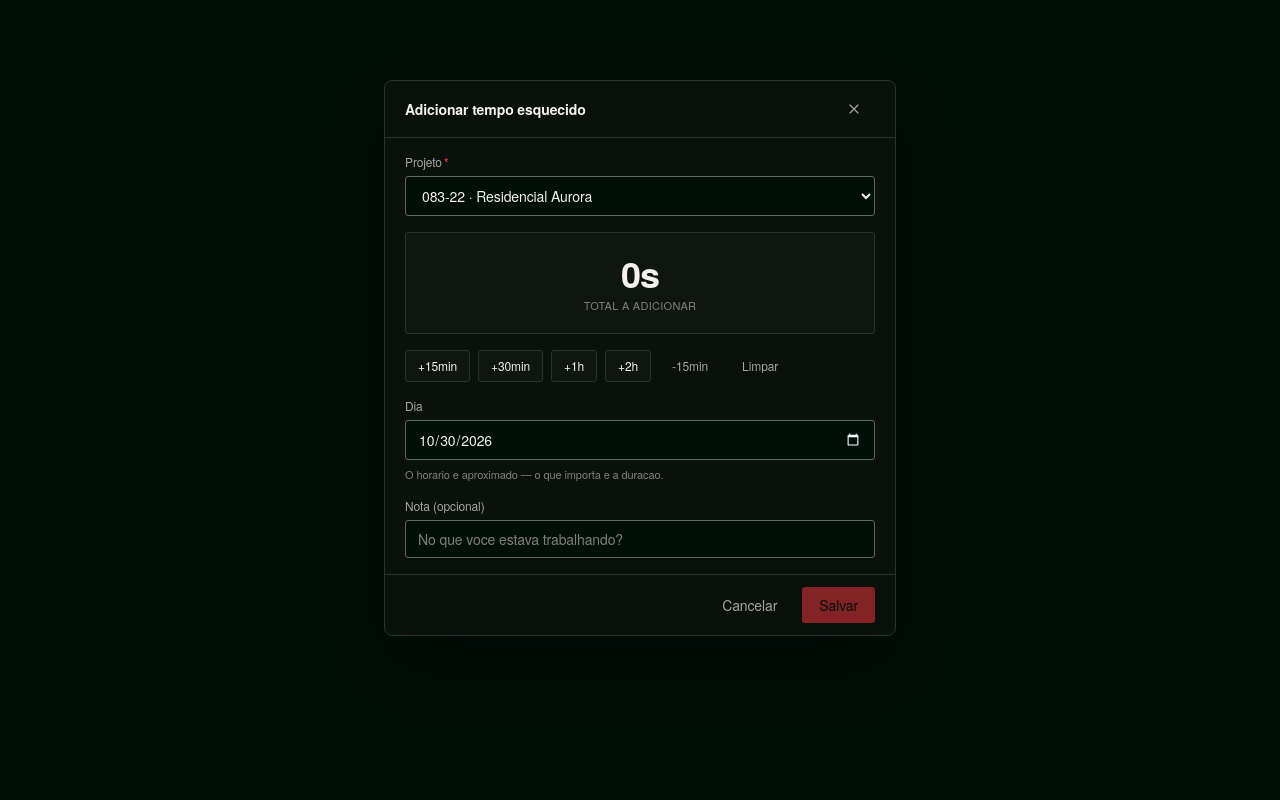
QuickTimeModal › erro ao salvar mantem o modal aberto, com o total preservado
The width and height of the screenshot is (1280, 800).
Click the button "+1h". click: (574, 366)
box: [551,350,597,382]
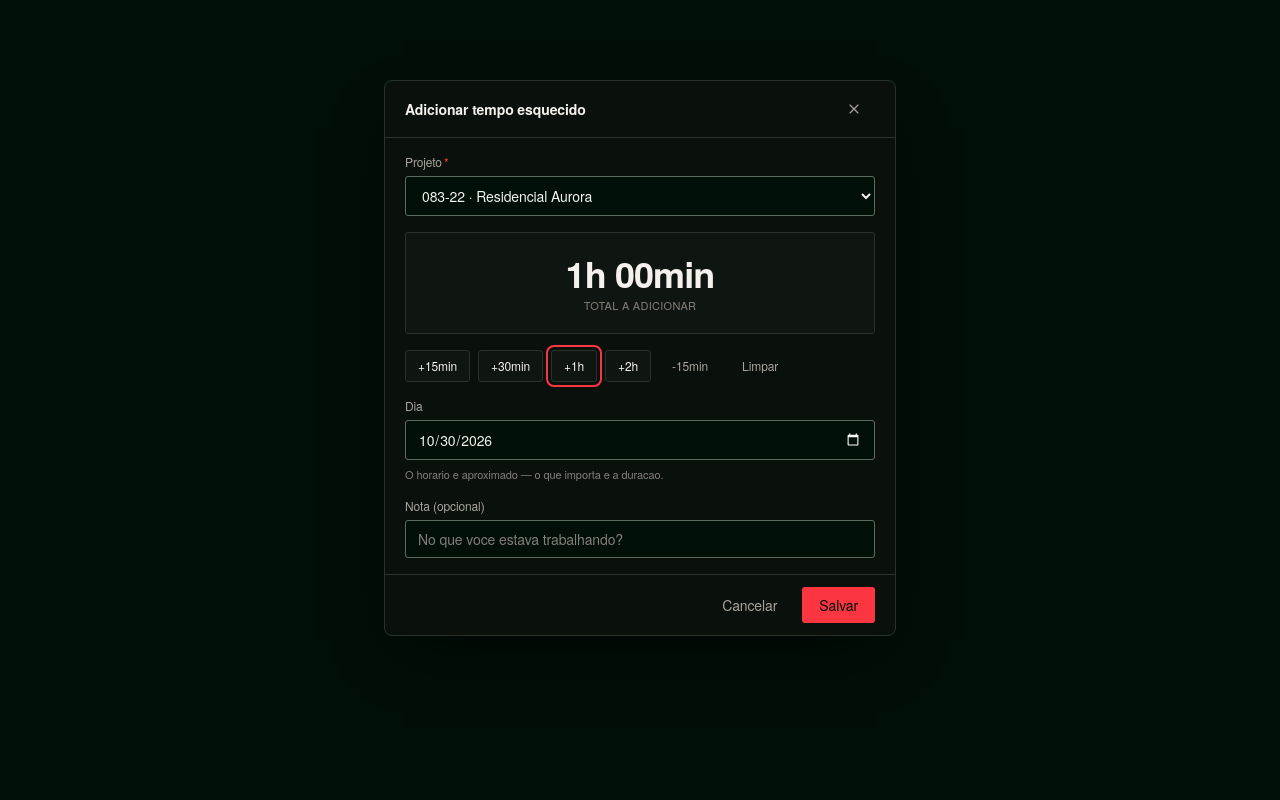
Click the button "Salvar". click: (839, 605)
box: [802,587,875,623]
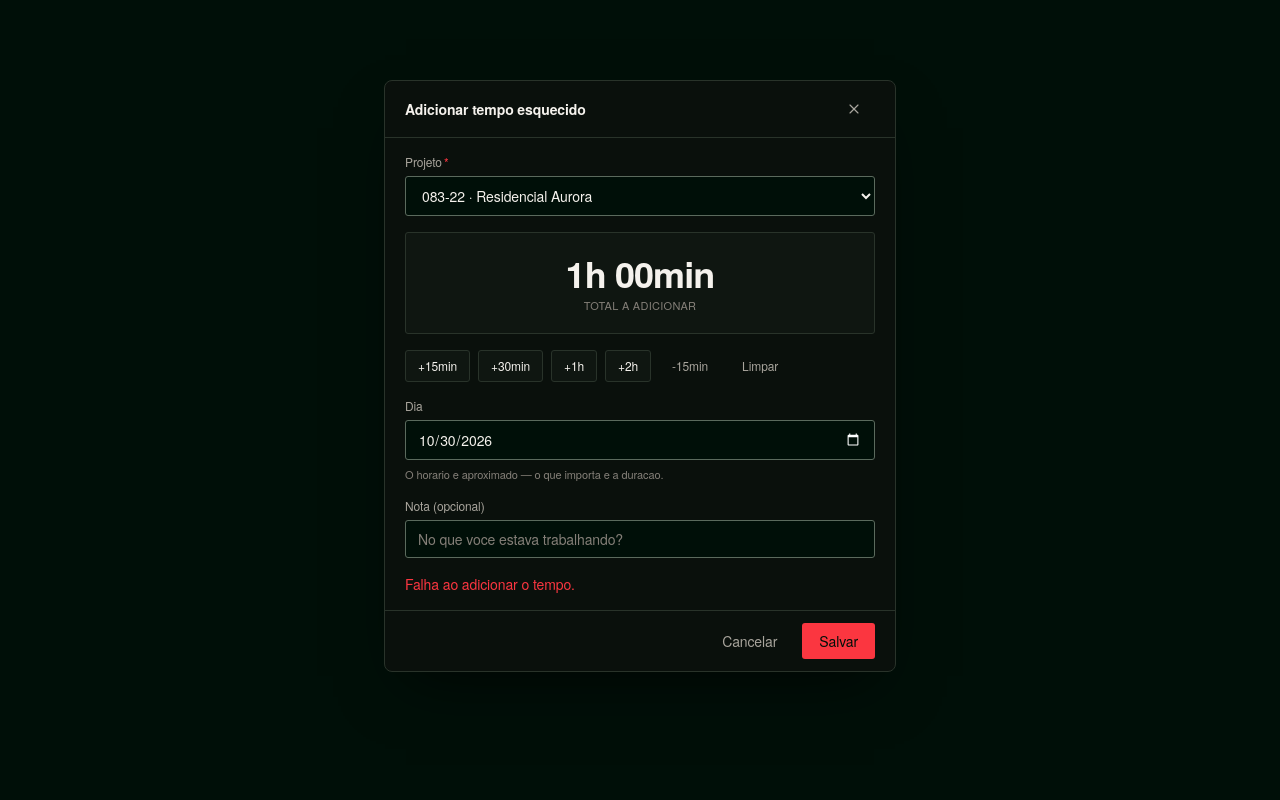
expect the text with test id "quick-total" reads "1h 00min": met, box [566,247,714,299]
expect the text "Falha ao adicionar o tempo." is shown: met, box [405,574,575,594]
